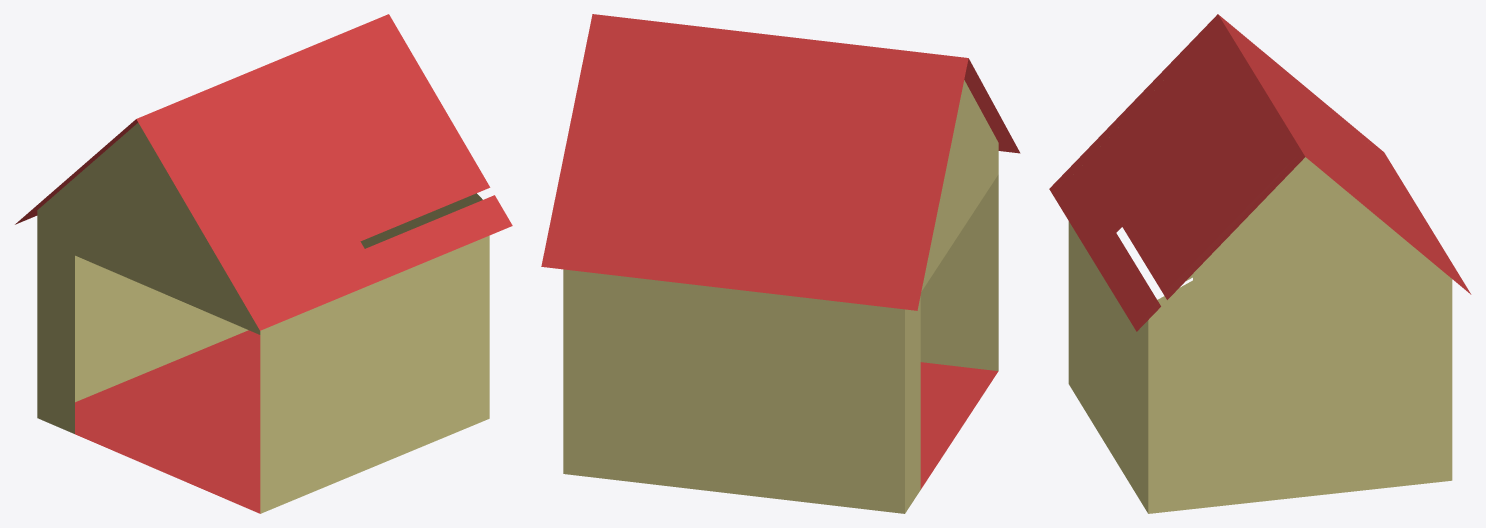
3 views of the same model, side by side, from view 1: azimuth 30°, elevation 25°; view 2: azimuth 150°, elevation 25°; view 3: azimuth 270°, elevation 25° (orthographic). The views are drawn at different scales.
Bounding box in the file's own units: 13.23 × 13.15 × 11.9.
